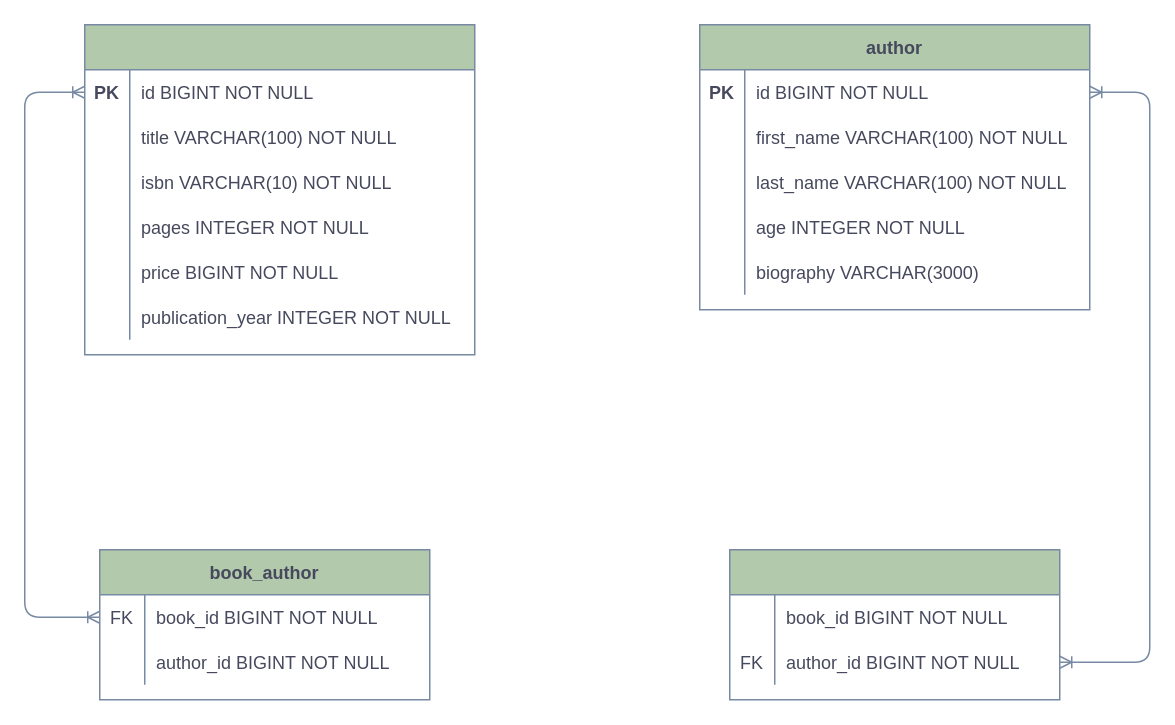
Some shapes in this 1175 by 725 pixel diagram are drawn without their labels. The shapes that lost their labels are listed below. From the top down, each one's box as (x1, y1, x2, y2) in pixels, then its label:
(83, 23, 475, 355): book
(728, 548, 1060, 700): author_book
